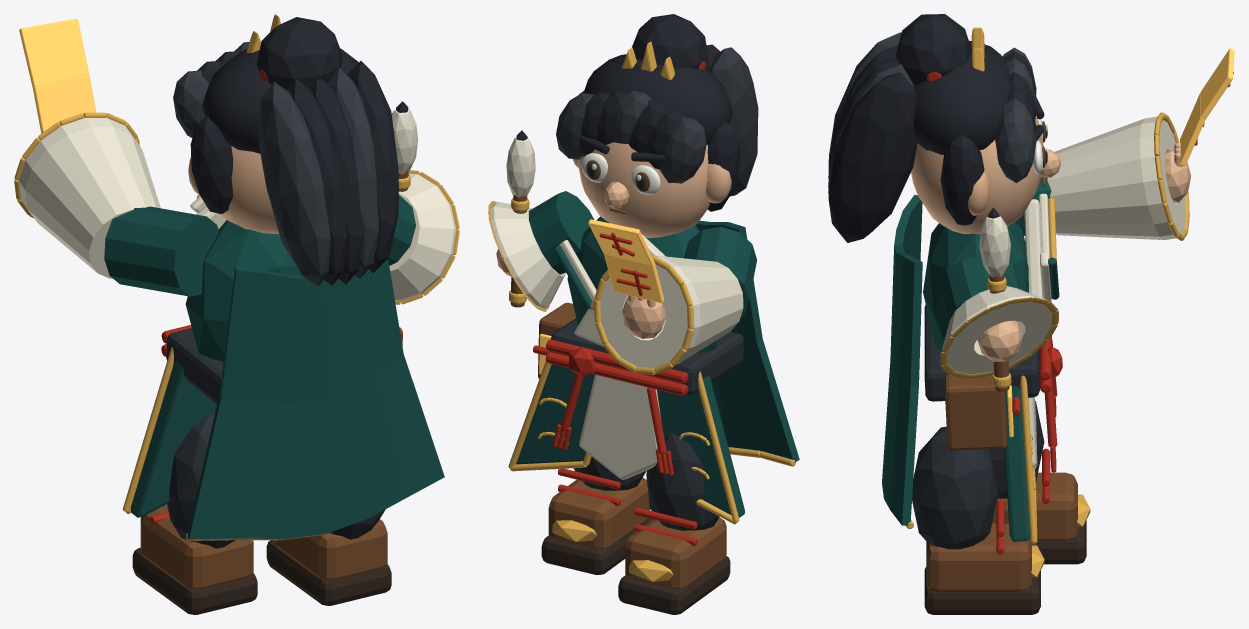
File: cheongun-reset.glb
3 renders of one model, left to right at view 1: azimuth 30°, elevation 25°; view 2: azimuth 150°, elevation 25°; view 3: azimuth 270°, elevation 25°, orthographic. The views are drawn at different scales.
Parts seen in each view (by area): view 1: Cheongun surface 18, Cheongun surface 38, Cheongun surface 34, Cheongun surface 29, Cheongun surface 35, Cheongun surface 36, Cheongun surface 11, Cheongun surface 02, Cheongun surface 40, Cheongun surface 14, Cheongun surface 07, Cheongun surface 49 (+13 smaller); view 2: Cheongun surface 29, Cheongun surface 38, Cheongun surface 26, Cheongun surface 12, Cheongun surface 18, Cheongun surface 31, Cheongun surface 14, Cheongun surface 02, Cheongun surface 07, Cheongun surface 16, Cheongun surface 03, Cheongun surface 40 (+26 smaller); view 3: Cheongun surface 29, Cheongun surface 38, Cheongun surface 35, Cheongun surface 18, Cheongun surface 08, Cheongun surface 26, Cheongun surface 07, Cheongun surface 40, Cheongun surface 11, Cheongun surface 24, Cheongun surface 31, Cheongun surface 06 (+19 smaller).
Boxes of the visible parts, x1,y1,x2,y2 form: Cheongun surface 18: (187, 259, 444, 539); Cheongun surface 38: (18, 117, 160, 278); Cheongun surface 34: (258, 68, 378, 286); Cheongun surface 29: (190, 17, 358, 214); Cheongun surface 35: (286, 61, 398, 285); Cheongun surface 36: (104, 206, 218, 296); Cheongun surface 11: (185, 220, 301, 361); Cheongun surface 02: (140, 504, 253, 589); Cheongun surface 40: (389, 173, 456, 300); Cheongun surface 14: (130, 361, 216, 517); Cheongun surface 07: (274, 519, 387, 580); Cheongun surface 49: (19, 18, 88, 87); Cheongun surface 29: (579, 14, 740, 211); Cheongun surface 38: (600, 255, 743, 367); Cheongun surface 26: (572, 142, 731, 237); Cheongun surface 12: (559, 234, 665, 479); Cheongun surface 18: (695, 220, 799, 462); Cheongun surface 31: (556, 91, 706, 183); Cheongun surface 14: (657, 375, 744, 517); Cheongun surface 02: (625, 517, 726, 589); Cheongun surface 07: (548, 477, 650, 549); Cheongun surface 16: (516, 364, 594, 464); Cheongun surface 03: (646, 432, 719, 530); Cheongun surface 40: (490, 202, 565, 308); Cheongun surface 29: (895, 14, 1047, 225); Cheongun surface 38: (1047, 116, 1185, 239); Cheongun surface 35: (828, 45, 917, 242); Cheongun surface 18: (882, 194, 922, 525); Cheongun surface 08: (912, 426, 998, 549); Cheongun surface 26: (911, 115, 1061, 233); Cheongun surface 07: (926, 523, 1031, 591); Cheongun surface 40: (942, 286, 1051, 374); Cheongun surface 11: (923, 221, 1059, 351); Cheongun surface 24: (945, 374, 1007, 450); Cheongun surface 31: (995, 47, 1036, 182); Cheongun surface 06: (924, 567, 1040, 614).
Bounding box in the file's own units: 2.03 × 3.51 × 2.3.
